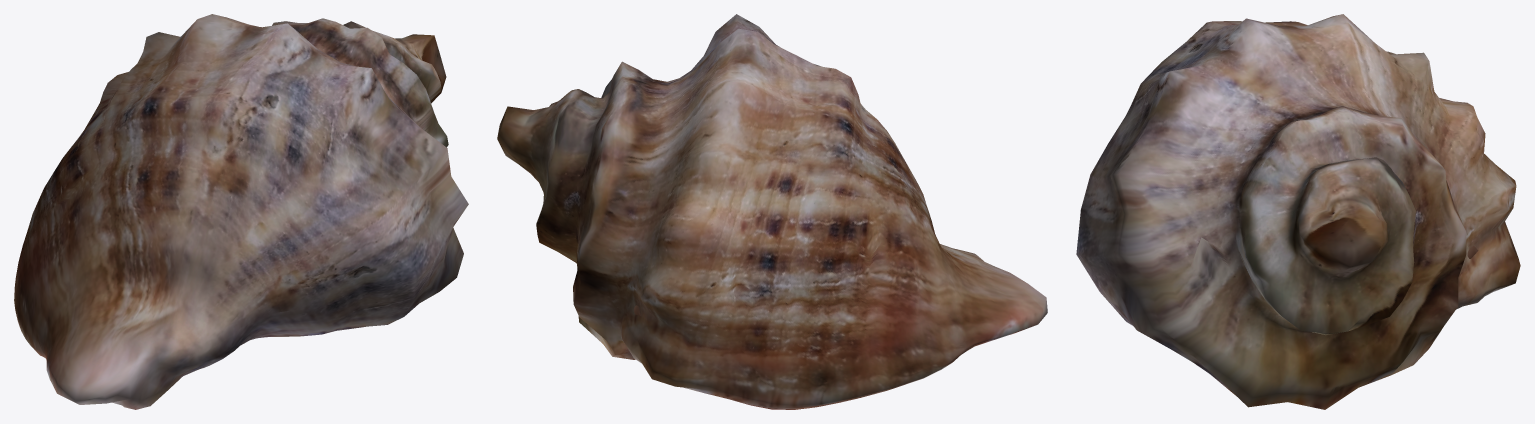
Rendered from Seashell2.fbx.
3 renders of one model, left to right at view 1: azimuth 30°, elevation 25°; view 2: azimuth 150°, elevation 25°; view 3: azimuth 270°, elevation 25°, orthographic. The views are drawn at different scales.
Visible parts, largest first — view 1: Seashell2_LOD0; view 2: Seashell2_LOD0; view 3: Seashell2_LOD0.
Part boxes in pixels (x1,y1,x2,y2): Seashell2_LOD0: (14,14,468,409); Seashell2_LOD0: (497,14,1047,409); Seashell2_LOD0: (1076,14,1520,409).
Size of what is drawn, in the model's own units: 18.94 by 12.18 by 14.74.
